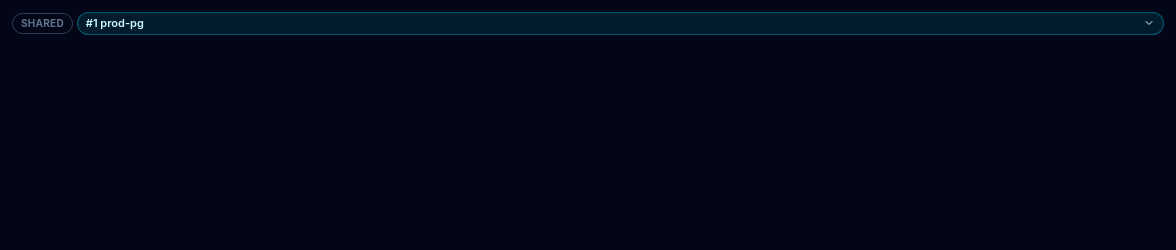
destination picker (chips variant) › numbers destinations in the open menu
Click the button with test id "sql-destinations-trigger".
click(115, 23)  # box top-left (77, 12), bottom-right (1164, 34)
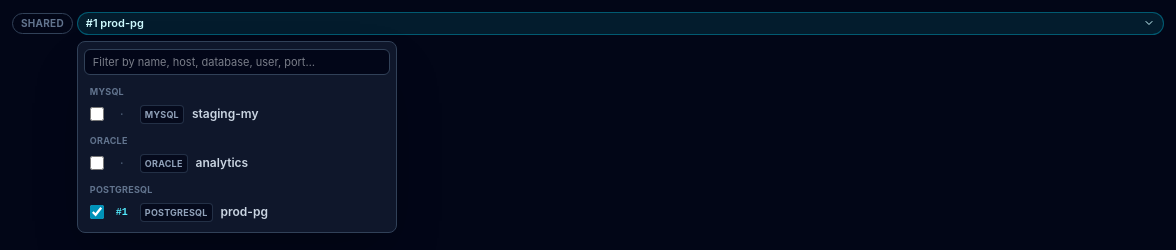
Check: the text with test id "sql-dest-group-1" reads "#1", box top-left (116, 207), bottom-right (128, 218)
